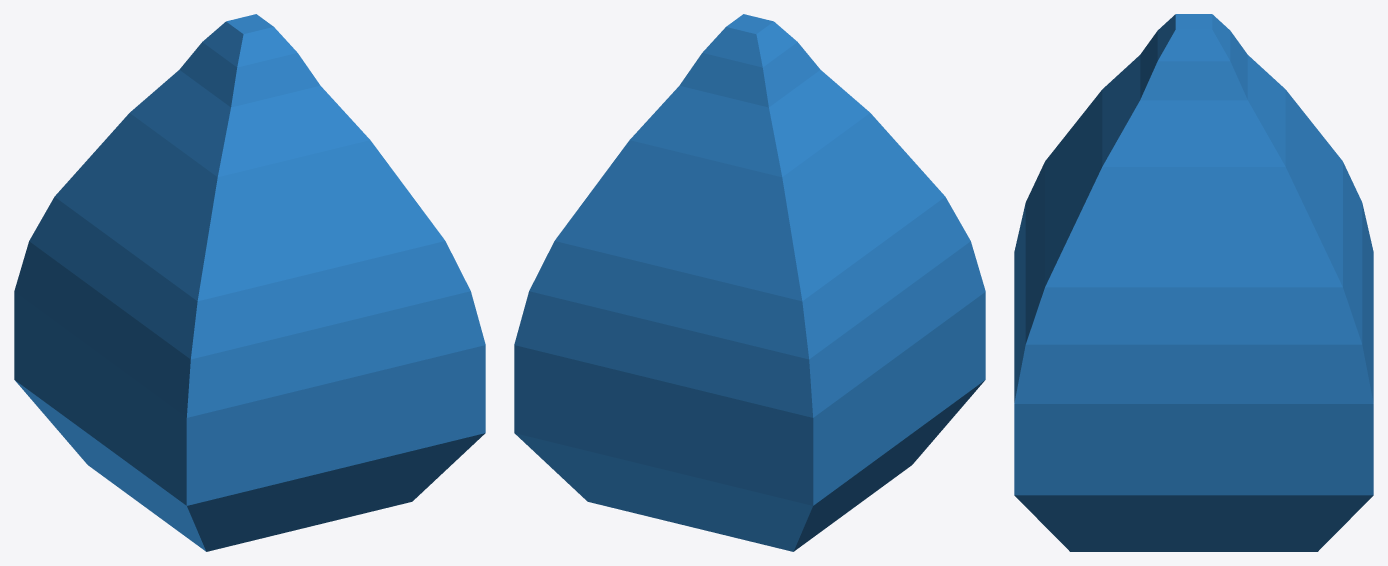
The model's file is droplet.fbx.
3 views of the same model, side by side, from view 1: azimuth 30°, elevation 25°; view 2: azimuth 150°, elevation 25°; view 3: azimuth 270°, elevation 25° (orthographic). The views are drawn at different scales.
Parts seen in each view (by area): view 1: Cube; view 2: Cube; view 3: Cube.
Part boxes in pixels (x1,y1,x2,y2): Cube: (14, 14, 485, 551); Cube: (514, 14, 985, 551); Cube: (1014, 14, 1373, 551).
Bounding box in the file's own units: 392 × 612 × 392.
